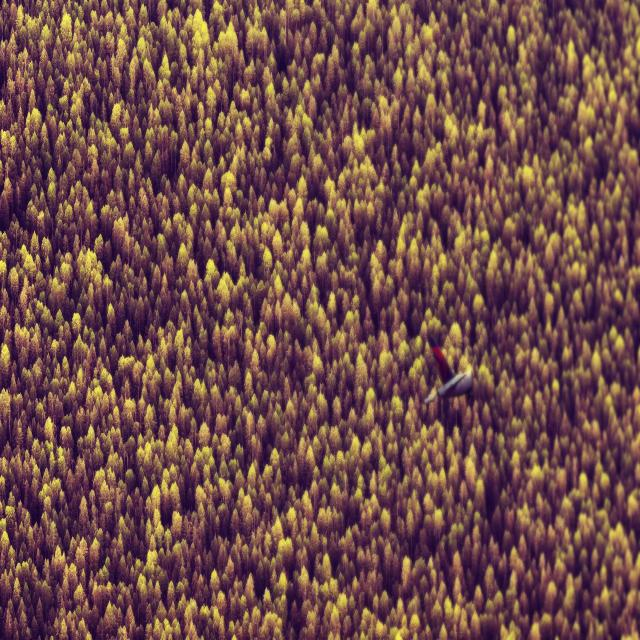airplane: (423, 335, 473, 406)
